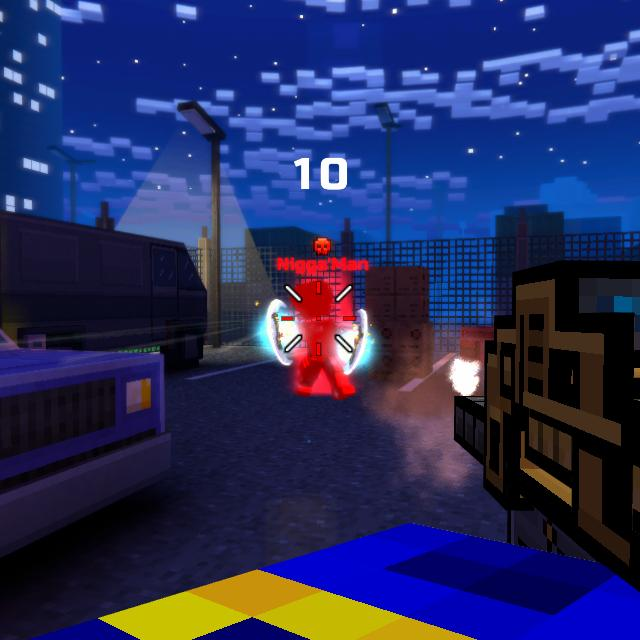Enemy: (291, 277, 351, 398)
